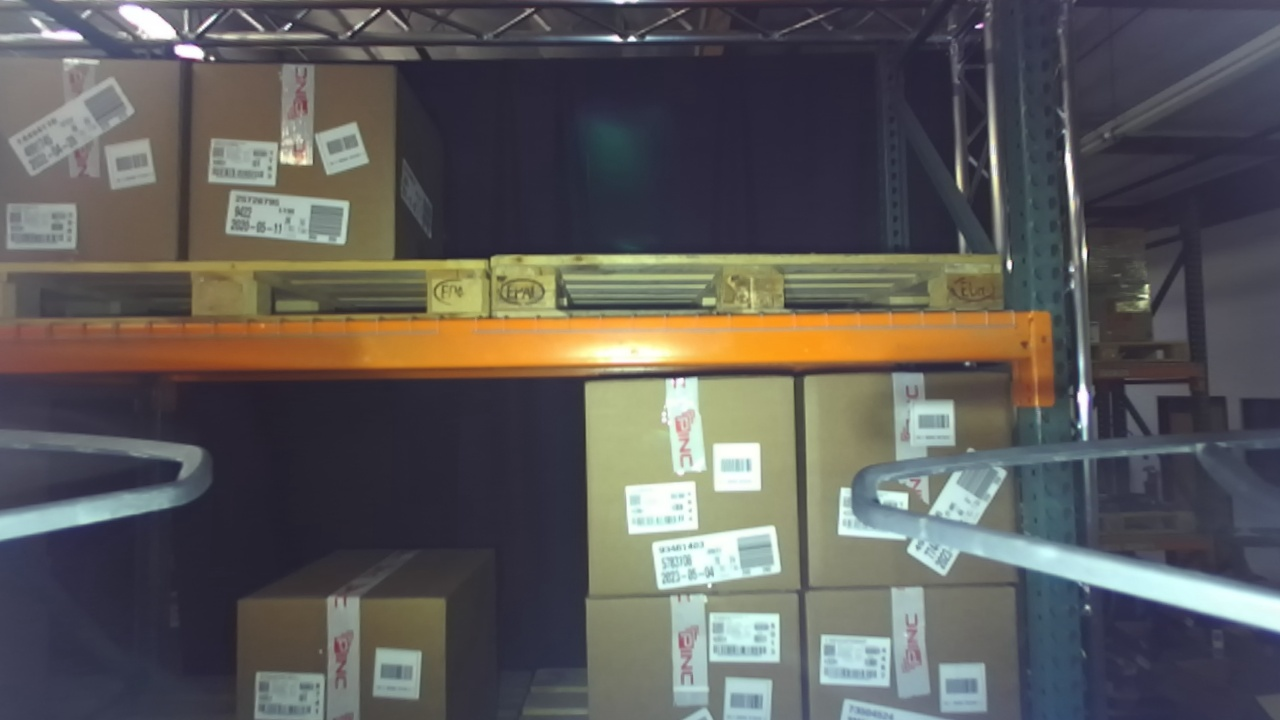box: (769, 351, 1043, 614), (562, 363, 828, 614), (160, 44, 416, 287), (1, 36, 200, 281), (788, 567, 1045, 720), (575, 563, 825, 720), (223, 571, 471, 720)
